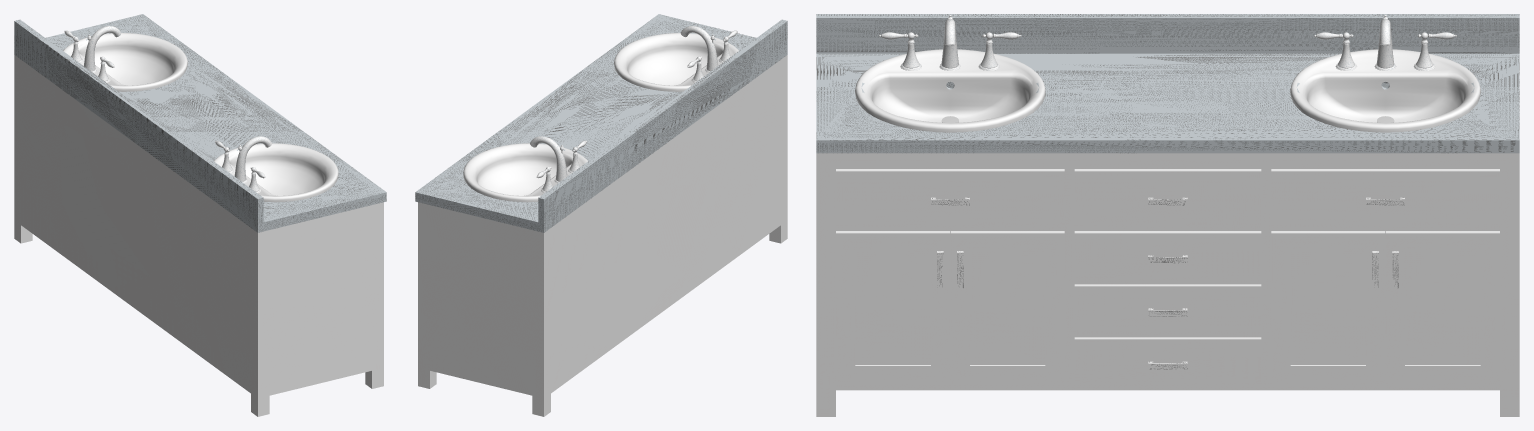
Rendered from cabinet.glb.
3 renders of one model, left to right at view 1: azimuth 30°, elevation 25°; view 2: azimuth 150°, elevation 25°; view 3: azimuth 270°, elevation 25°, orthographic. The views are drawn at different scales.
Visible parts, largest first — view 1: group_0.010, group_0.021, group_6, group_6.014, group_5.002, group_5.006; view 2: group_0.010, group_0.021, group_6.014, group_6, group_5.006, group_5.002; view 3: group_0.021, group_0.010, group_0.014, group_0.018, group_6, group_6.014, group_0.017, group_0.003, group_0.005, group_0, group_0.002, group_0.006 (+8 smaller).
Part boxes in pixels (left/top/right/bottom): group_0.010: left=14, top=55, right=383, bottom=416; group_0.021: left=14, top=14, right=386, bottom=232; group_6: left=214, top=143, right=338, bottom=202; group_6.014: left=63, top=33, right=187, bottom=91; group_5.002: left=234, top=136, right=271, bottom=181; group_5.006: left=84, top=26, right=121, bottom=71; group_0.010: left=418, top=55, right=787, bottom=416; group_0.021: left=415, top=14, right=787, bottom=232; group_6.014: left=463, top=143, right=587, bottom=202; group_6: left=614, top=33, right=738, bottom=91; group_5.006: left=530, top=136, right=567, bottom=181; group_5.002: left=680, top=26, right=718, bottom=71; group_0.021: left=816, top=14, right=1519, bottom=153; group_0.010: left=816, top=153, right=1519, bottom=416; group_0.014: left=836, top=169, right=1064, bottom=224; group_0.018: left=1271, top=169, right=1499, bottom=224; group_6: left=855, top=49, right=1045, bottom=132; group_6.014: left=1290, top=49, right=1480, bottom=132; group_0.017: left=1074, top=169, right=1261, bottom=224; group_0.003: left=950, top=231, right=1064, bottom=383; group_0.005: left=1271, top=231, right=1385, bottom=383; group_0: left=970, top=251, right=1045, bottom=365; group_0.002: left=855, top=251, right=930, bottom=365; group_0.006: left=1290, top=251, right=1365, bottom=365.
Size of the model in its own units: 0.5715 by 0.9727 by 1.83.
Materials: 7 (2 with a texture image).
